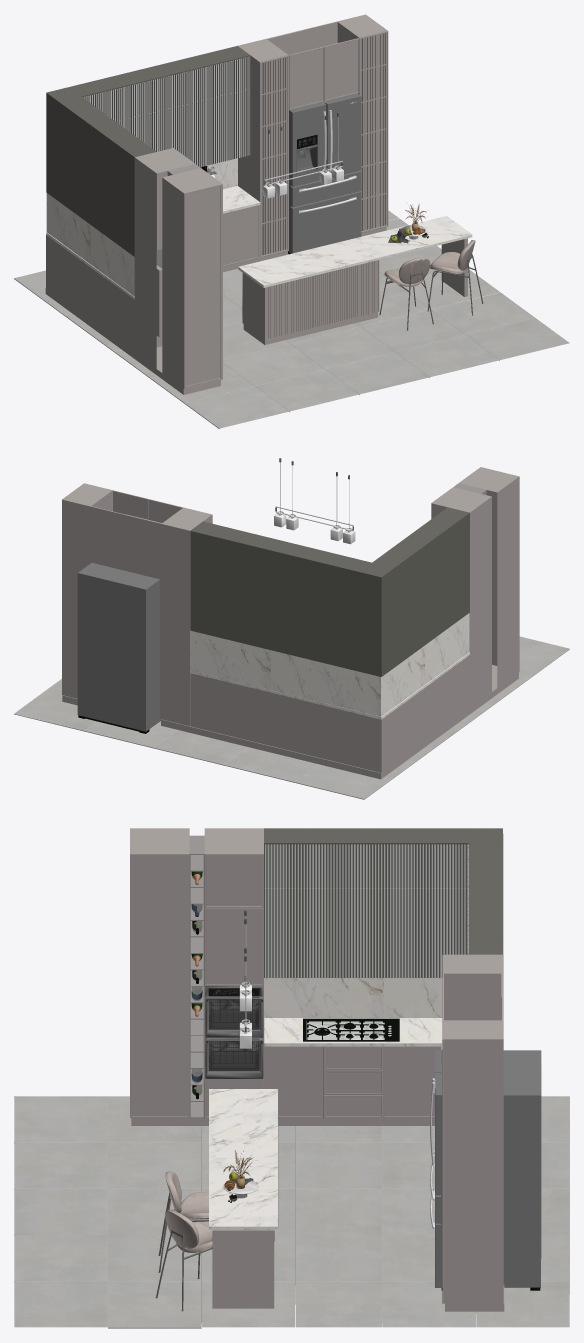
Rendered from kitchen-3-lite.glb.
3 renders of one model, top to bottom at view 1: azimuth 30°, elevation 25°; view 2: azimuth 150°, elevation 25°; view 3: azimuth 270°, elevation 25°, orthographic. The views are drawn at different scales.
Parts seen in each view (by area): view 1: Box499033.001; view 2: Box499033.001; view 3: Box499033.001.
Part boxes in pixels (left/top/right/bottom): Box499033.001: left=14, top=14, right=569, bottom=428; Box499033.001: left=14, top=458, right=569, bottom=799; Box499033.001: left=14, top=828, right=569, bottom=1328.
Bounding box in the file's own units: 5.51 × 3.07 × 5.6.
75 materials, 60 textured.
